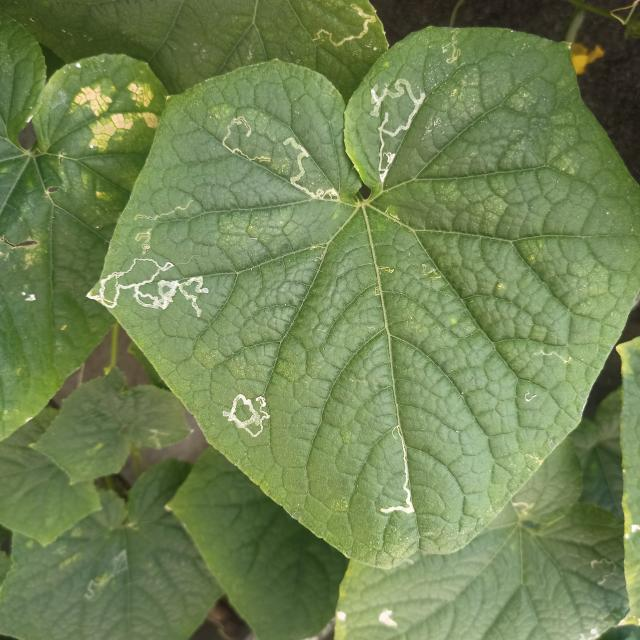disease_cucumber: (74, 78, 162, 151)
